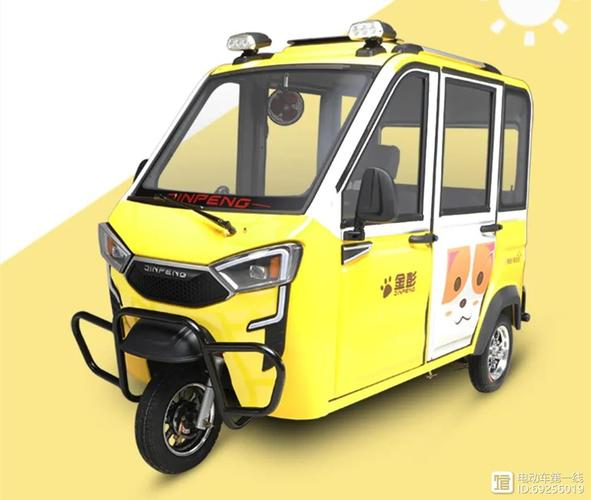empty: (78, 13, 546, 474)
